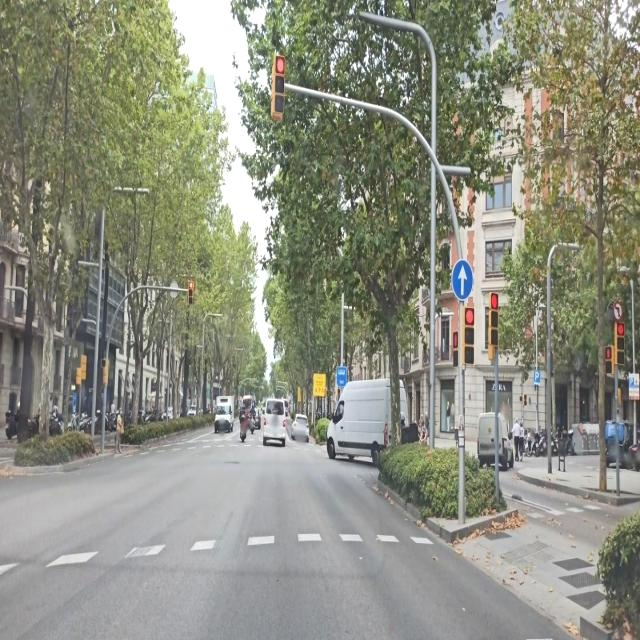bike: (535, 428, 559, 458), (239, 415, 247, 443)
car: (326, 376, 407, 466), (476, 411, 514, 471), (262, 398, 287, 447), (4, 408, 38, 442), (214, 399, 234, 434), (291, 413, 310, 442)
